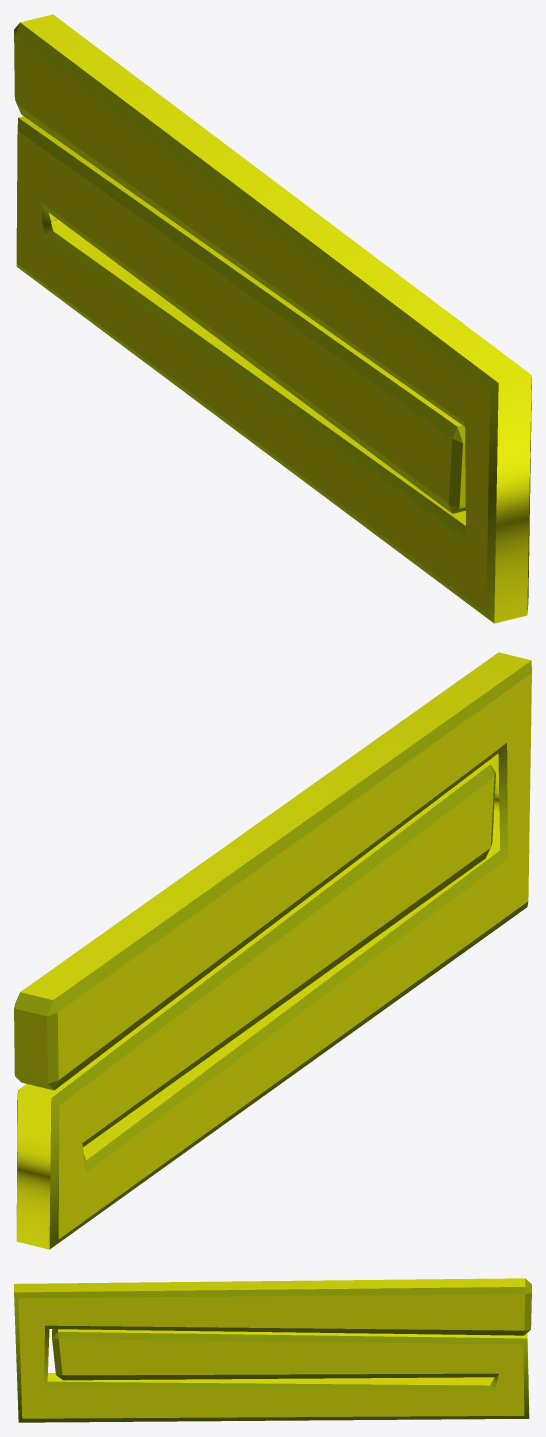
The model's file is Noodle.fbx.
3 renders of one model, top to bottom at view 1: azimuth 30°, elevation 25°; view 2: azimuth 150°, elevation 25°; view 3: azimuth 270°, elevation 25°, orthographic. The views are drawn at different scales.
Parts seen in each view (by area): view 1: pCube10; view 2: pCube10; view 3: pCube10.
Boxes of the visible parts, <box> form: pCube10: <box>14,14,531,623</box>; pCube10: <box>14,652,531,1249</box>; pCube10: <box>14,1278,531,1422</box>.
Bounding box in the file's own units: 0.0172 × 0.0996 × 0.3442.
